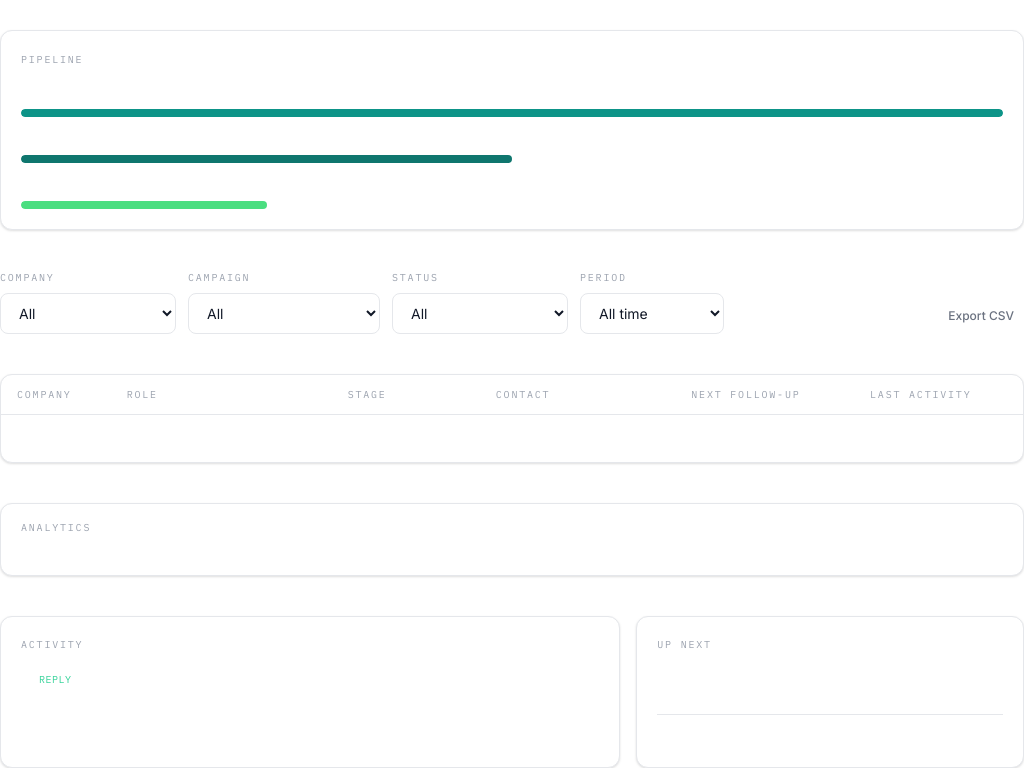
it: Pipeline analytics › says so when there is nothing to analyse yet
(page scrolled)
Click the button "Analytics": (56, 527) [1,504,1023,574]
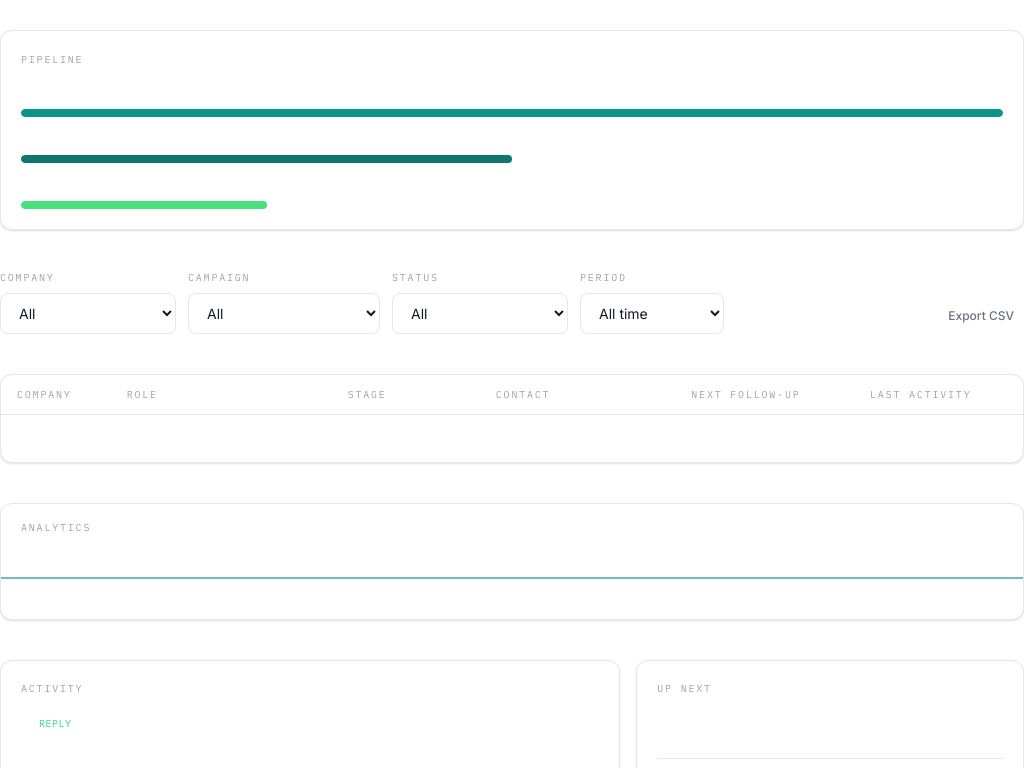
Expected: the text "Nothing to analyse yet — send a few applications first." is shown, [21,576,381,592]
